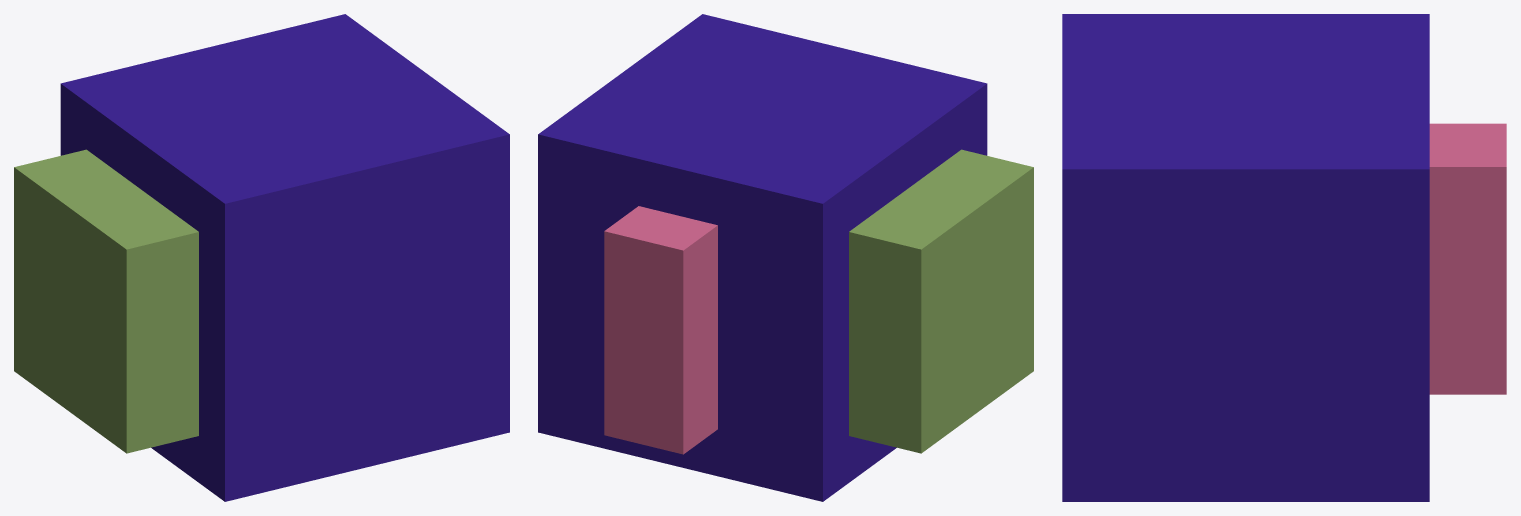
3 renders of one model, left to right at view 1: azimuth 30°, elevation 25°; view 2: azimuth 150°, elevation 25°; view 3: azimuth 270°, elevation 25°, orthographic. The views are drawn at different scales.
Parts seen in each view (by area): view 1: pCube1, pasted__pCube1; view 2: pCube1, pasted__pCube1, pasted__pasted__pCube1; view 3: pCube1, pasted__pasted__pCube1.
Part boxes in pixels (left/top/right/bottom): pCube1: left=60, top=14, right=509, bottom=501; pasted__pCube1: left=14, top=149, right=198, bottom=453; pCube1: left=538, top=14, right=987, bottom=501; pasted__pCube1: left=849, top=149, right=1033, bottom=453; pasted__pasted__pCube1: left=604, top=206, right=717, bottom=454; pCube1: left=1062, top=14, right=1429, bottom=501; pasted__pasted__pCube1: left=1429, top=123, right=1506, bottom=394.
Bounding box in the file's own units: 1.25 × 1 × 1.21.
